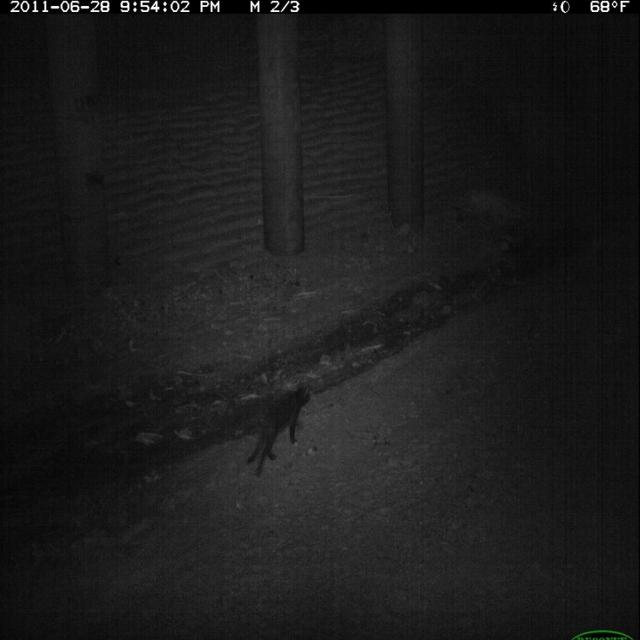cat: (243, 377, 319, 482)
